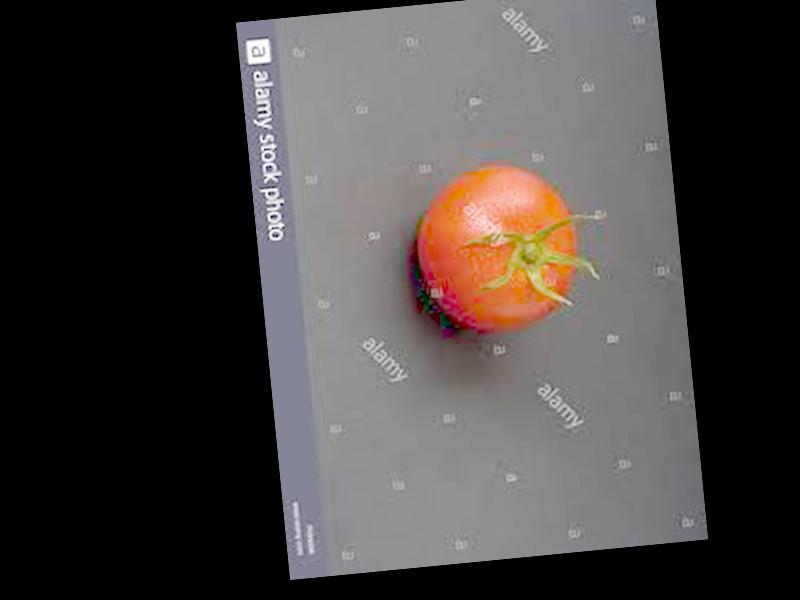Tomato: (417, 158, 585, 338)
